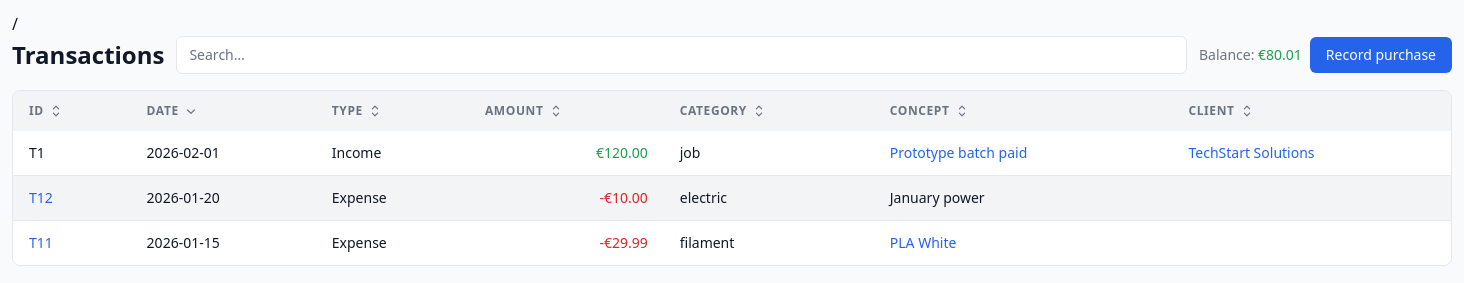
Test case: TransactionsPage › search › reports no matches rather than an empty ledger
The width and height of the screenshot is (1464, 283).
Type "zzzznothing" into the search field. click: (682, 55)
box: [176, 36, 1187, 74]
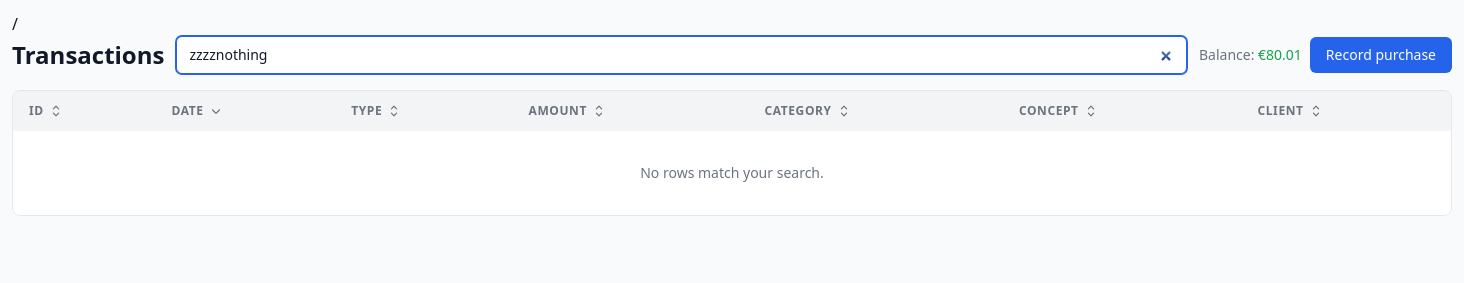
expect the text "No rows match your search." is shown: met, box [13, 131, 1451, 215]
